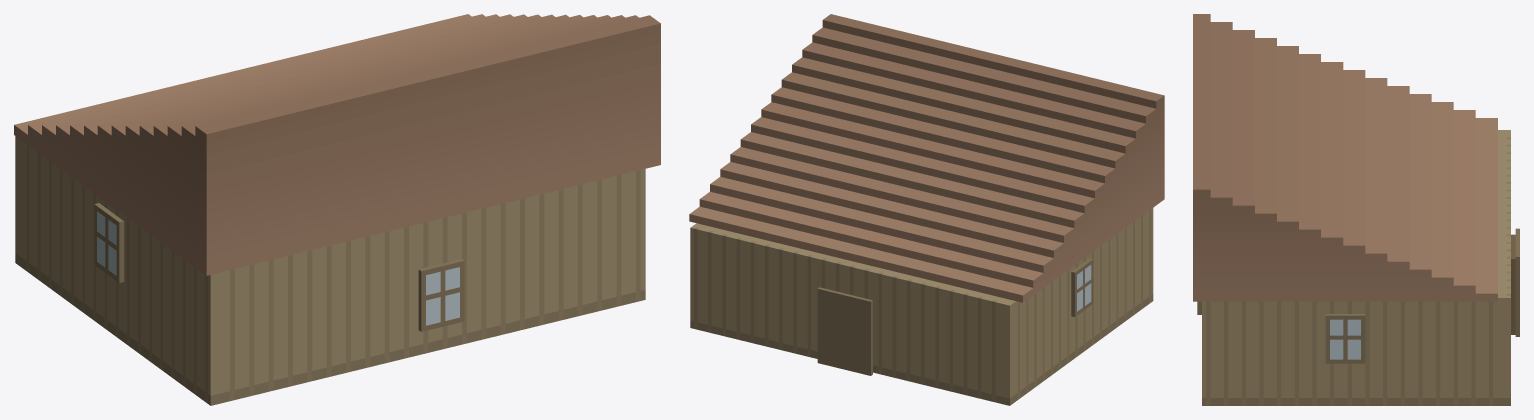
Rendered from botica_02.glb.
3 renders of one model, left to right at view 1: azimuth 30°, elevation 25°; view 2: azimuth 150°, elevation 25°; view 3: azimuth 270°, elevation 25°, orthographic. The views are drawn at different scales.
Parts seen in each view (by area): view 1: botica_02; view 2: botica_02; view 3: botica_02.
Boxes of the visible parts, x1,y1,x2,y2 form: botica_02: (14, 14, 660, 405); botica_02: (689, 14, 1164, 405); botica_02: (1193, 14, 1519, 405).
Size of the model in its own units: 9.4 by 5.5 by 7.4.
